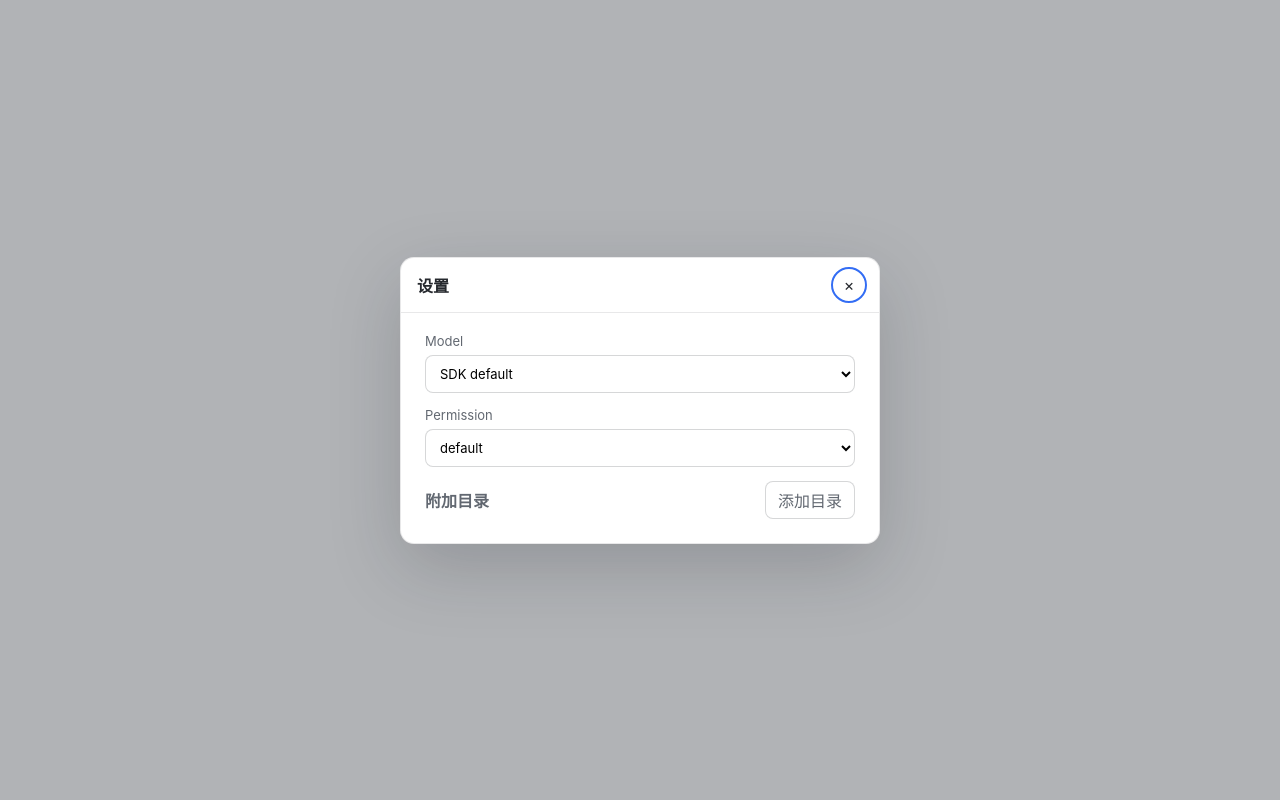
Scenario: page recovery › keeps an immediate runtime control rejection safe and inside its dialog
Select "Performance" in the dropdown labelled "Model" at (640, 374), box [425,354,855,392]
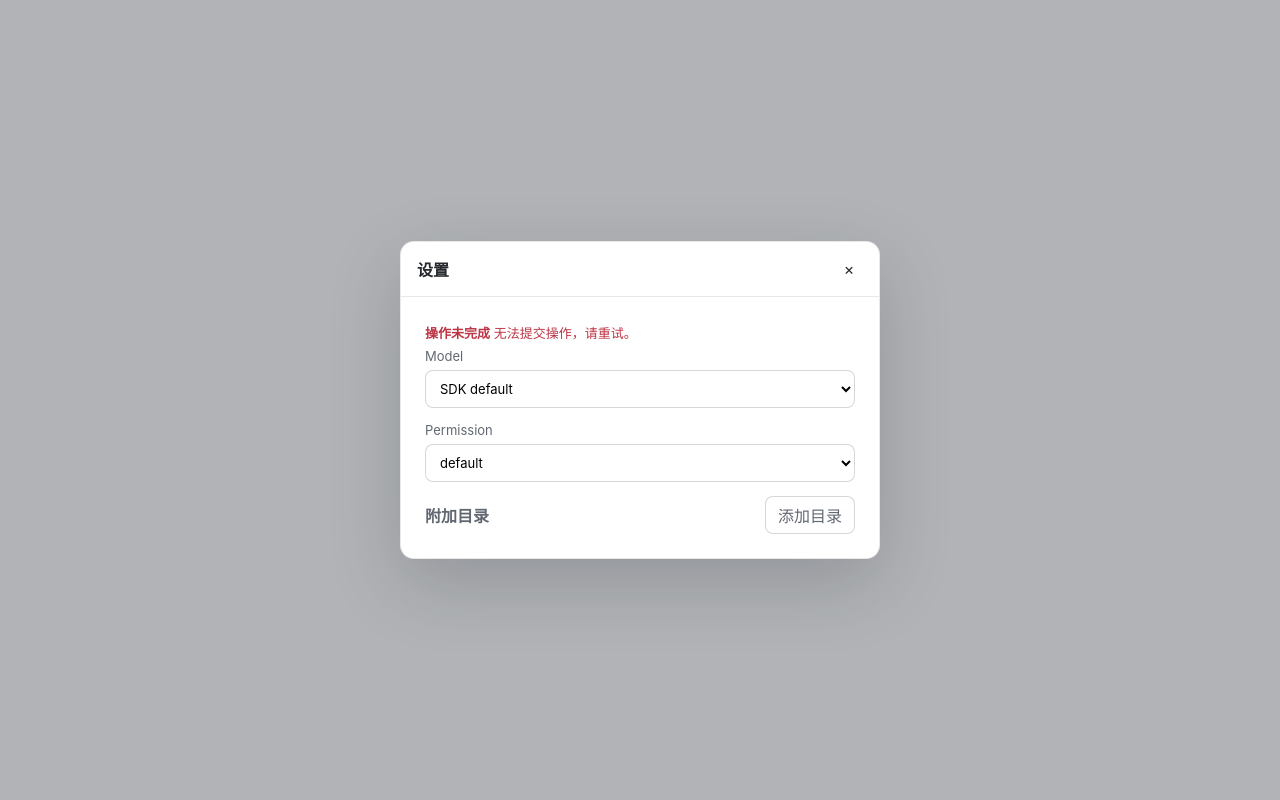
Expected: the dialog does not show "secret", [400,241,880,559]
Now the message shows "无法提交操作，请重试。", box [494,325,637,341]
